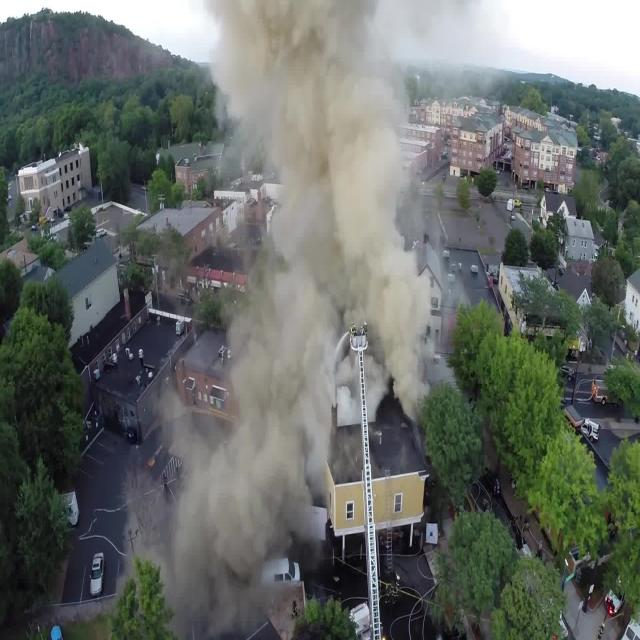Smoke: (186, 125, 406, 598)
